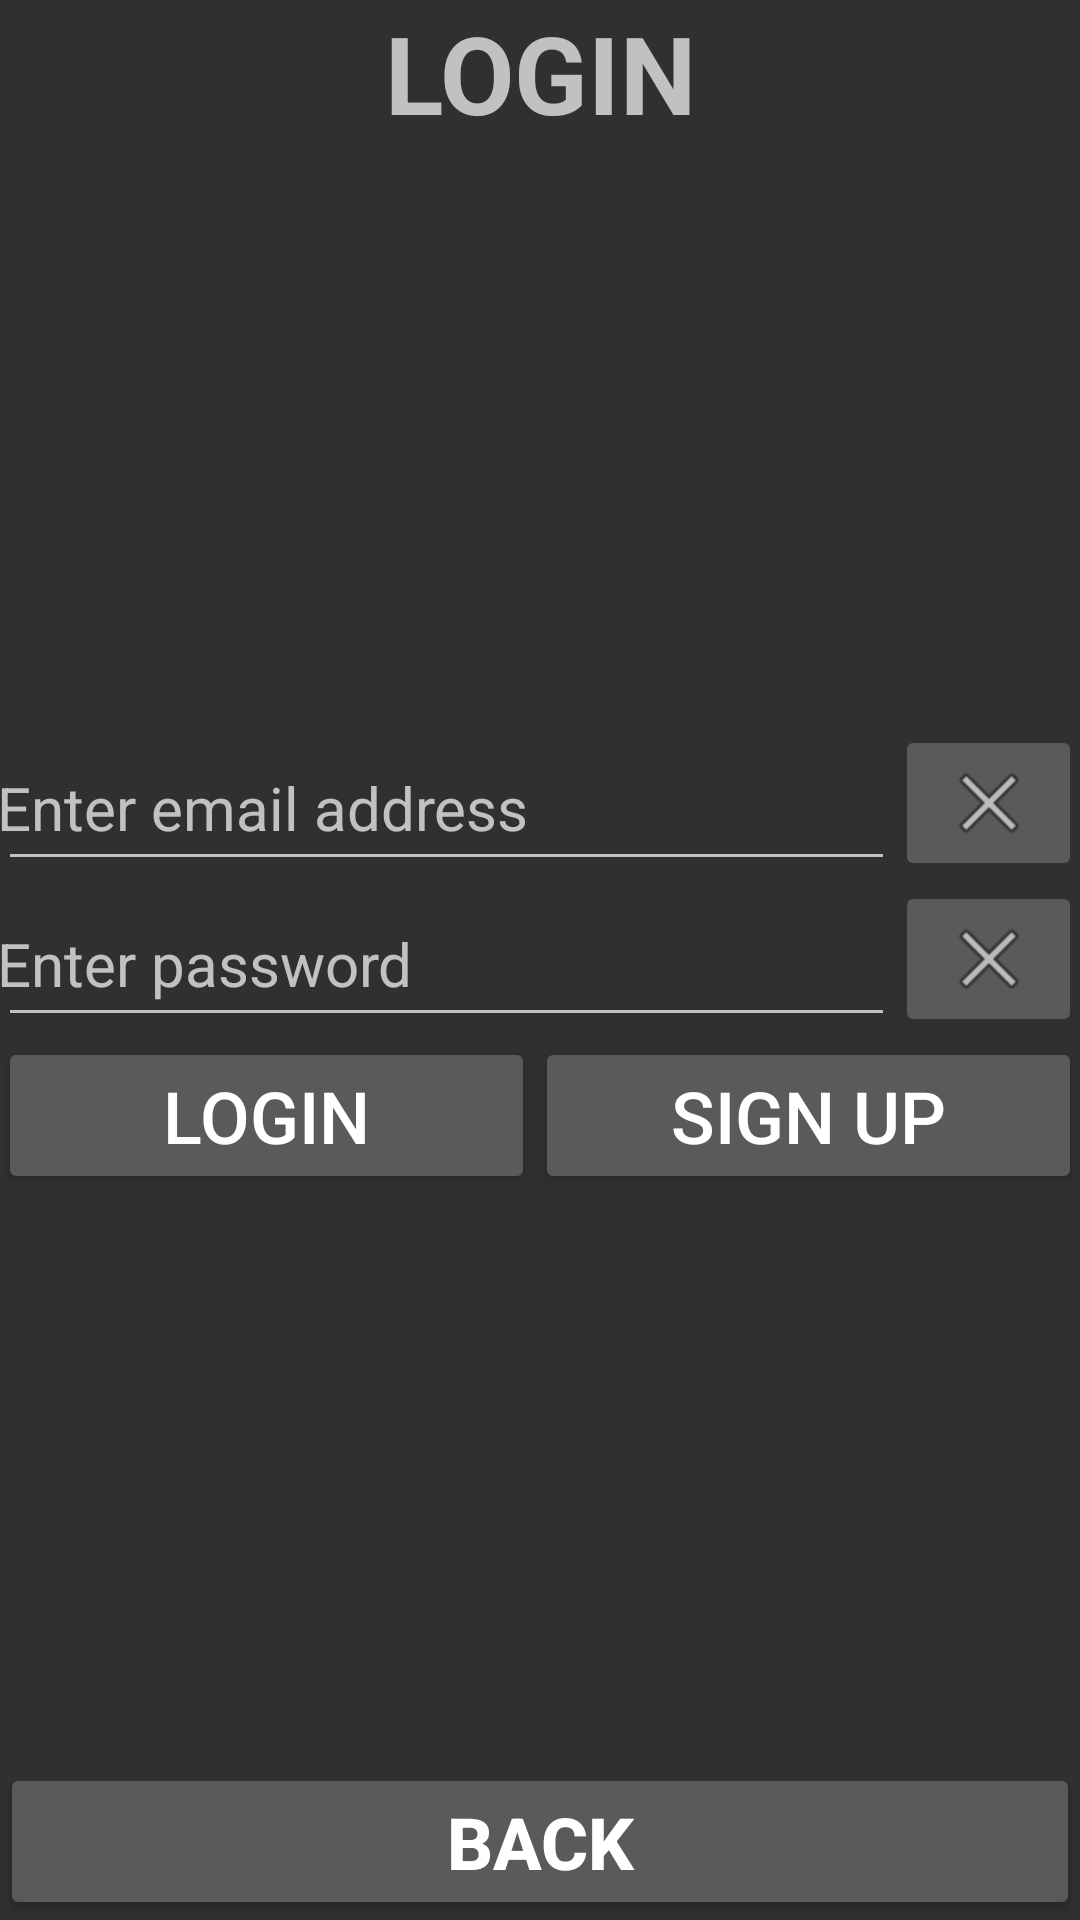

Icons on this 1080px×1920px Android screen, each with the point to tap as [x,y]:
close clear cancel: [988,803], [988,959]
